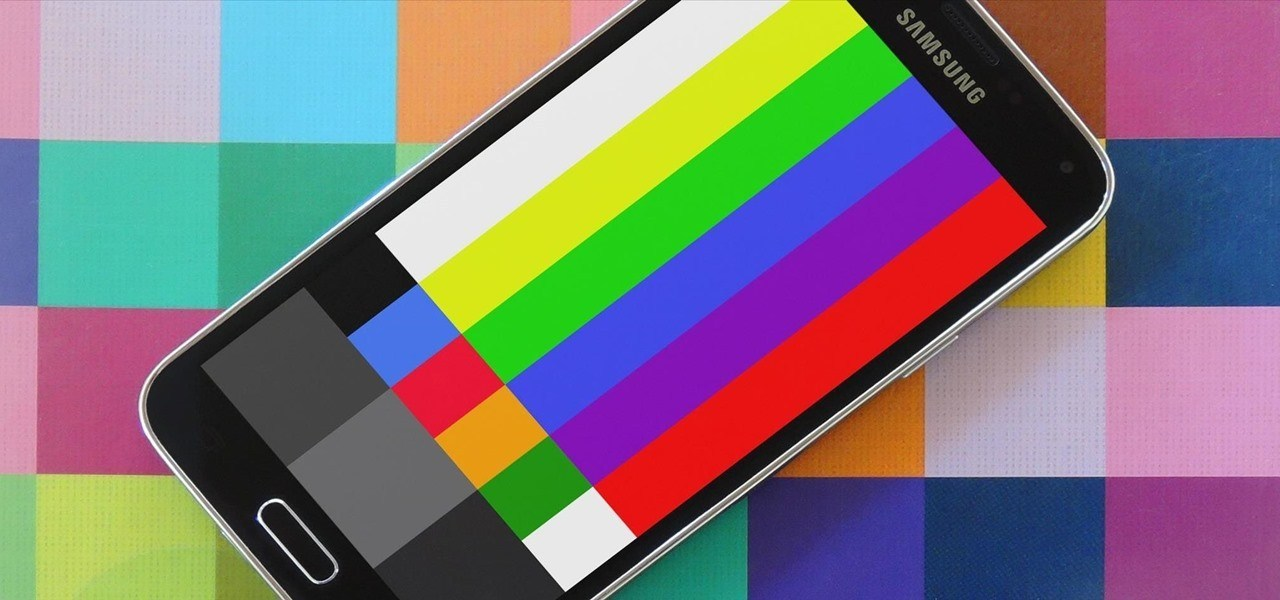phone: (127, 2, 1127, 600)
